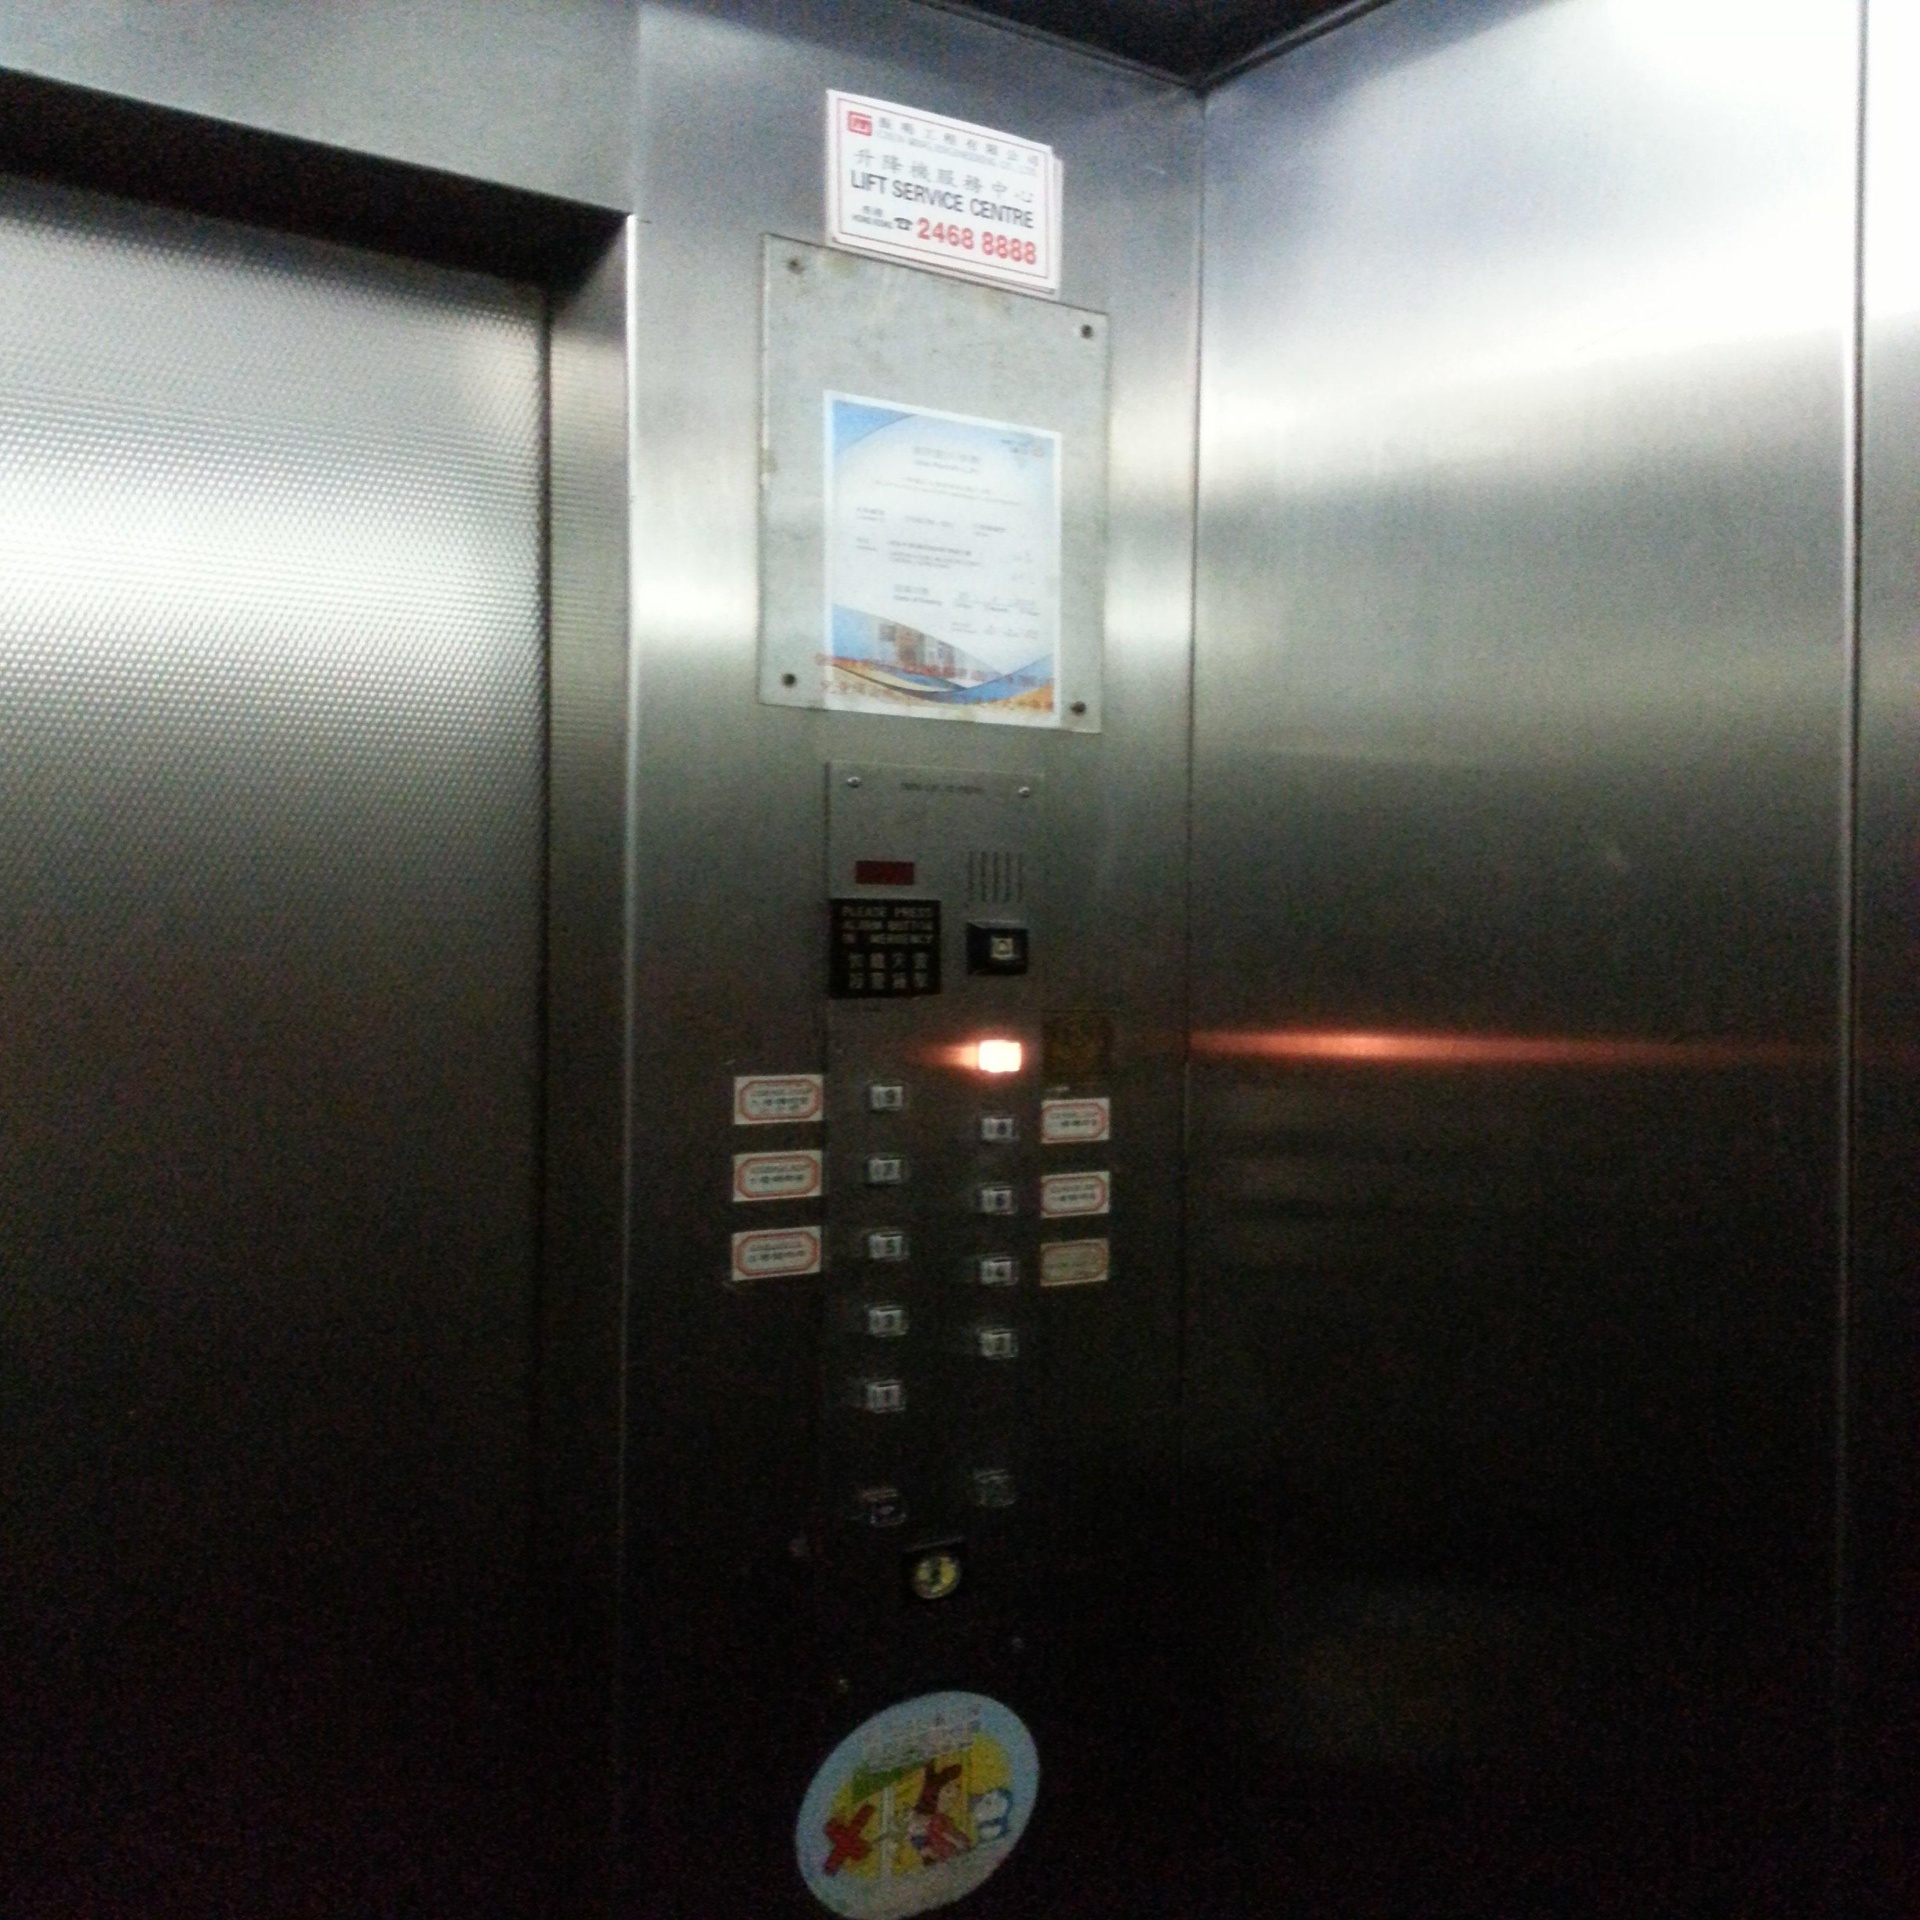1: (863, 1378, 905, 1415)
2: (976, 1327, 1018, 1361)
3: (867, 1305, 907, 1340)
4: (979, 1255, 1016, 1285)
5: (867, 1231, 907, 1261)
6: (978, 1185, 1016, 1217)
7: (867, 1155, 904, 1185)
8: (978, 1115, 1018, 1146)
9: (870, 1085, 907, 1115)
alarm: (985, 935, 1016, 962)
blur: (904, 1540, 971, 1609), (971, 1470, 1015, 1509)
empty: (976, 1036, 1027, 1076)
open: (863, 1489, 905, 1530)
